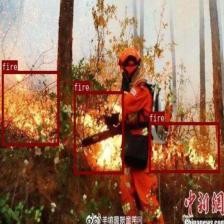fire: (1, 71, 59, 146), (74, 90, 124, 174), (149, 121, 219, 173)
